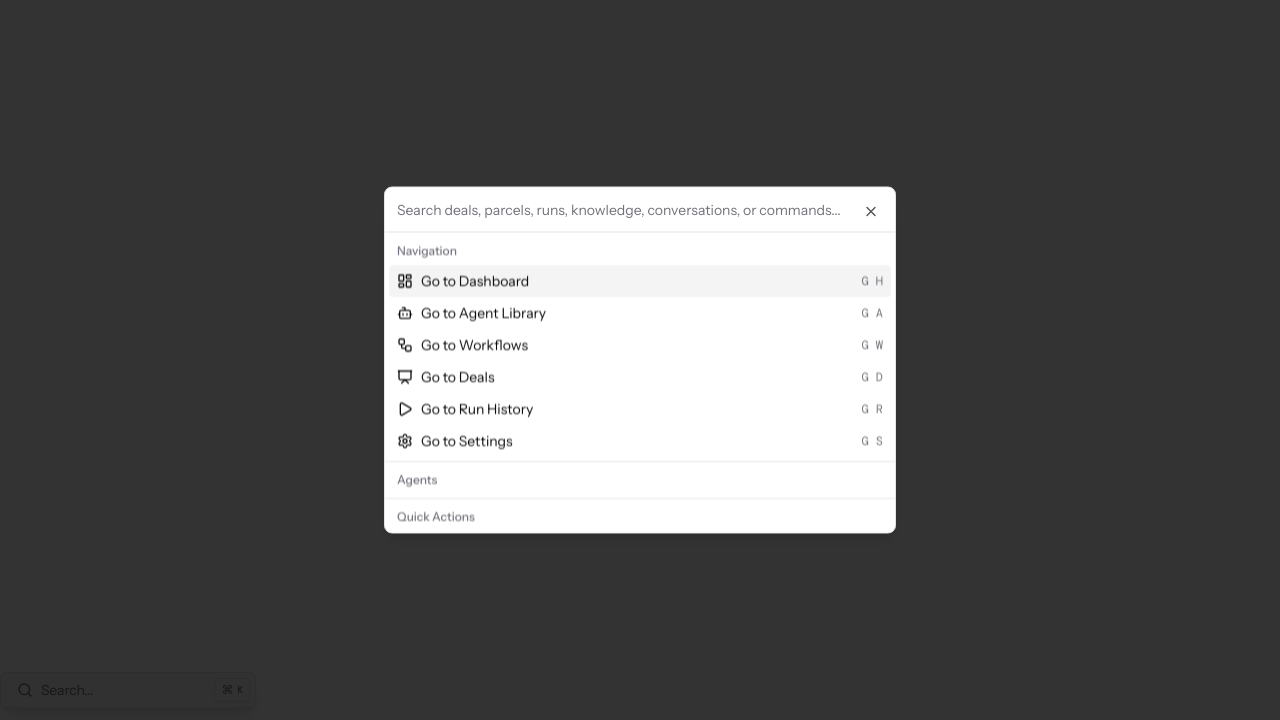
Test: CommandPalette › renders grouped content results from /api/search
Type "oak" into the dropdown with placeholder "Search deals, parcels, runs, knowledge, conversations, or commands...".
click(640, 210); type("oak")  # box [397,188,883,232]
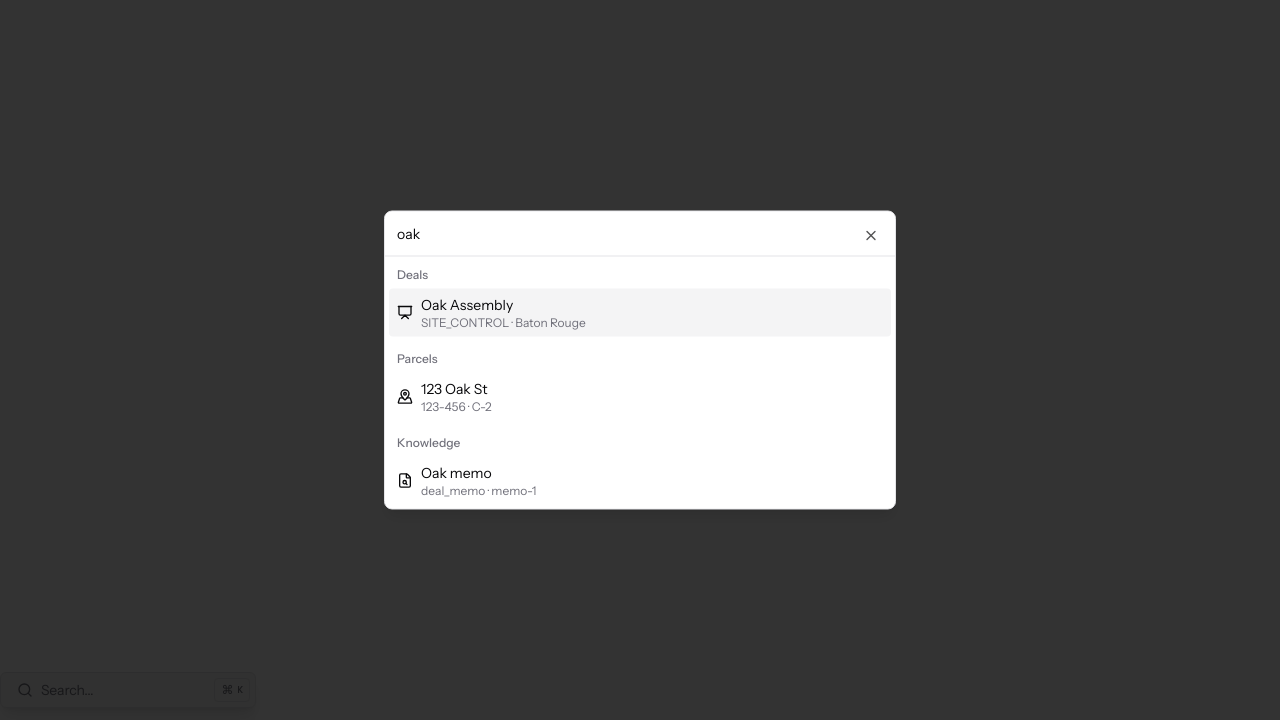
Result: the text "Oak Assembly" is shown at [421,296,513,314]
Result: the text "Parcels" is shown at [397,350,438,366]
Result: the text "123 Oak St" is shown at [421,380,487,398]
